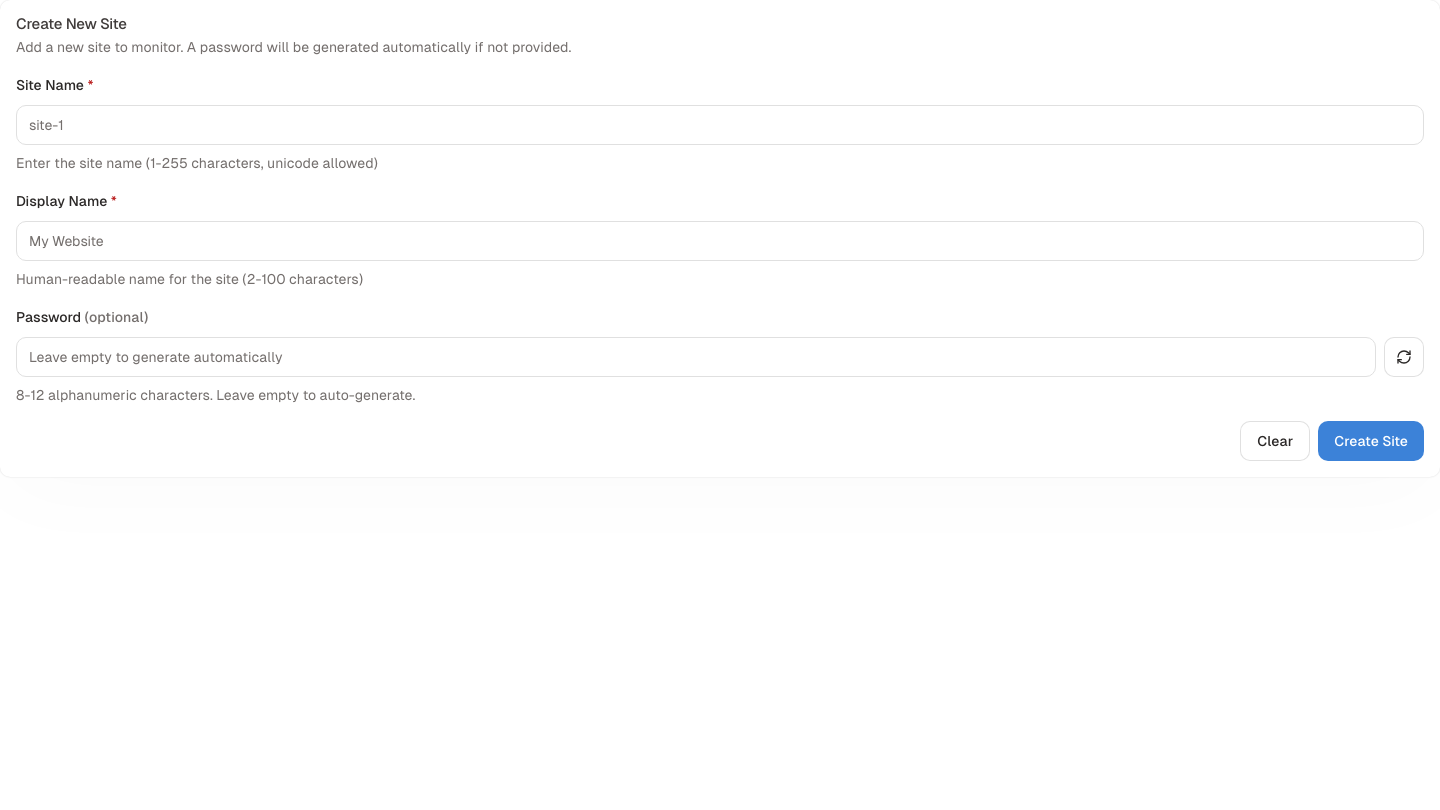
Test: CreateSiteForm › Password Generation › should generate password when generation button is clicked
The image size is (1440, 810).
Click the button titled "Generate password": point(1404, 357) [1384,337,1424,377]
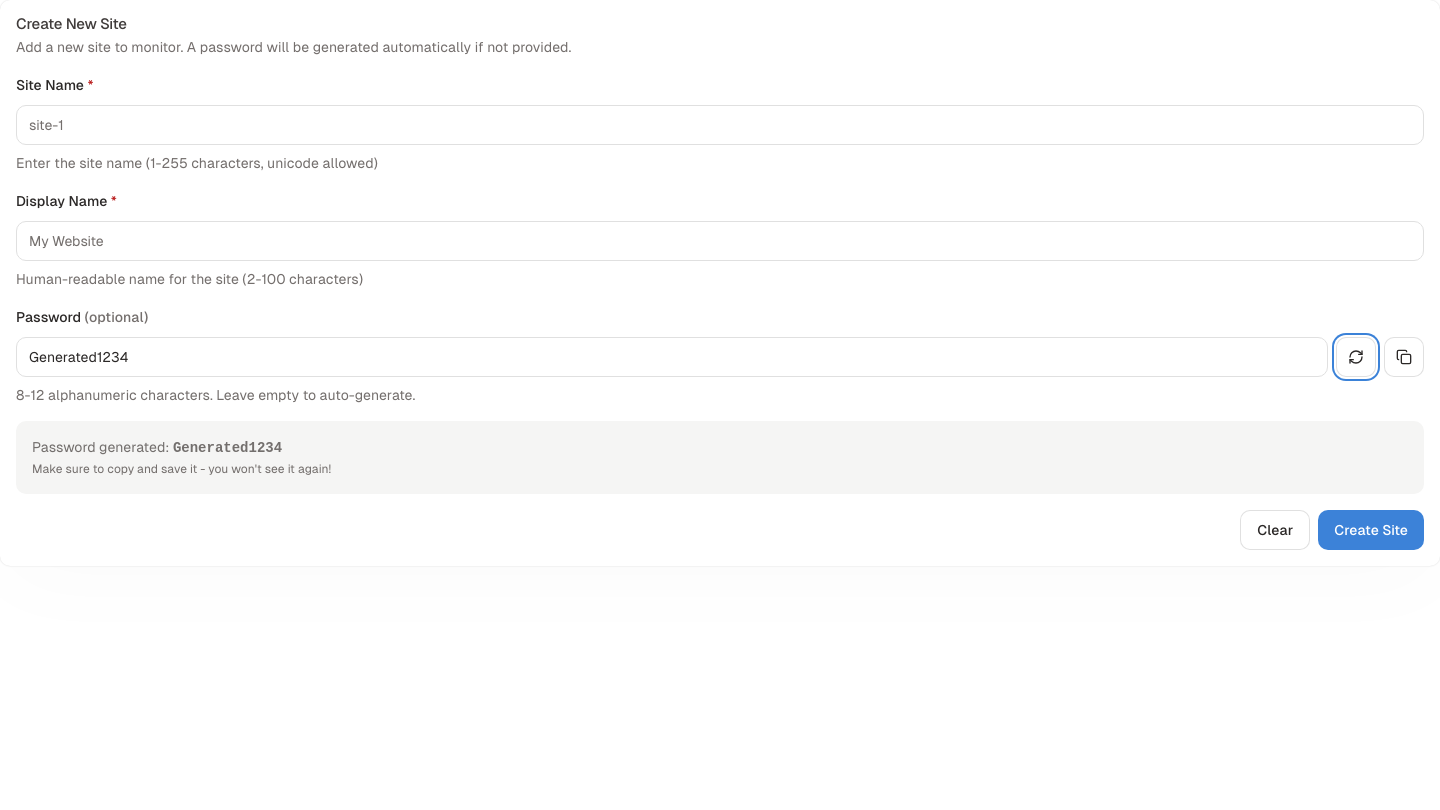
Check: the field labelled "Password (optional)" holds "Generated1234", box [16,337,1328,377]
